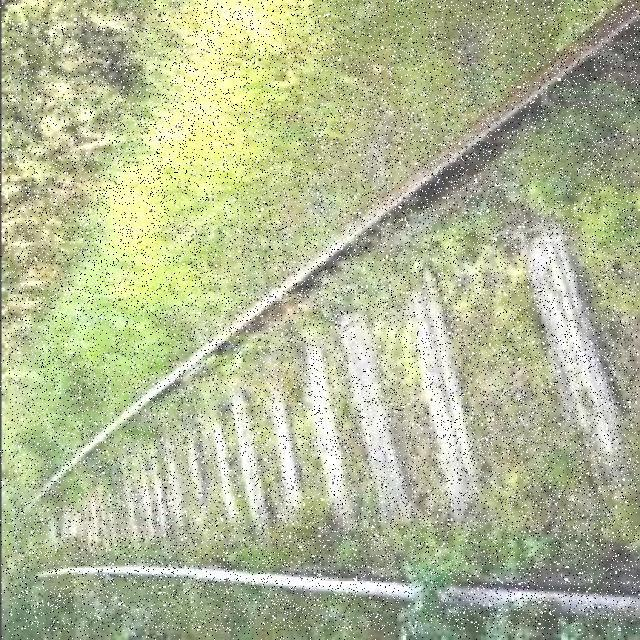rail: (7, 1, 638, 631)
